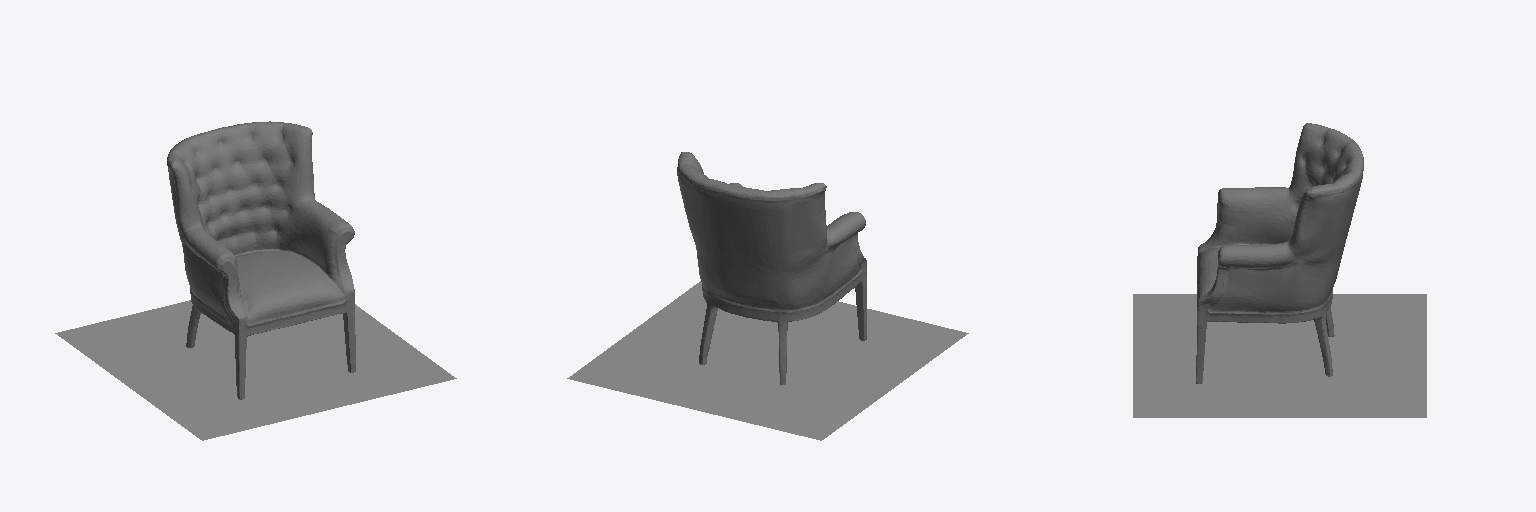
Rendered from ONAW2547_v6_LOD2.obj.
The picture shows the model from 3 angles: view 1: azimuth 30°, elevation 25°; view 2: azimuth 150°, elevation 25°; view 3: azimuth 270°, elevation 25°; orthographic projection.
Visible parts, largest first — view 1: not_clear_obj_0_v6, shadow_plane_v6; view 2: shadow_plane_v6, not_clear_obj_0_v6; view 3: shadow_plane_v6, not_clear_obj_0_v6.
Boxes of the visible parts, <box> form: not_clear_obj_0_v6: <box>167,121,355,399</box>; shadow_plane_v6: <box>55,300,456,440</box>; shadow_plane_v6: <box>567,281,968,440</box>; not_clear_obj_0_v6: <box>677,152,866,384</box>; shadow_plane_v6: <box>1133,294,1426,417</box>; not_clear_obj_0_v6: <box>1196,123,1363,383</box>.
Size of the model in its own units: 133 by 99.9 by 133.